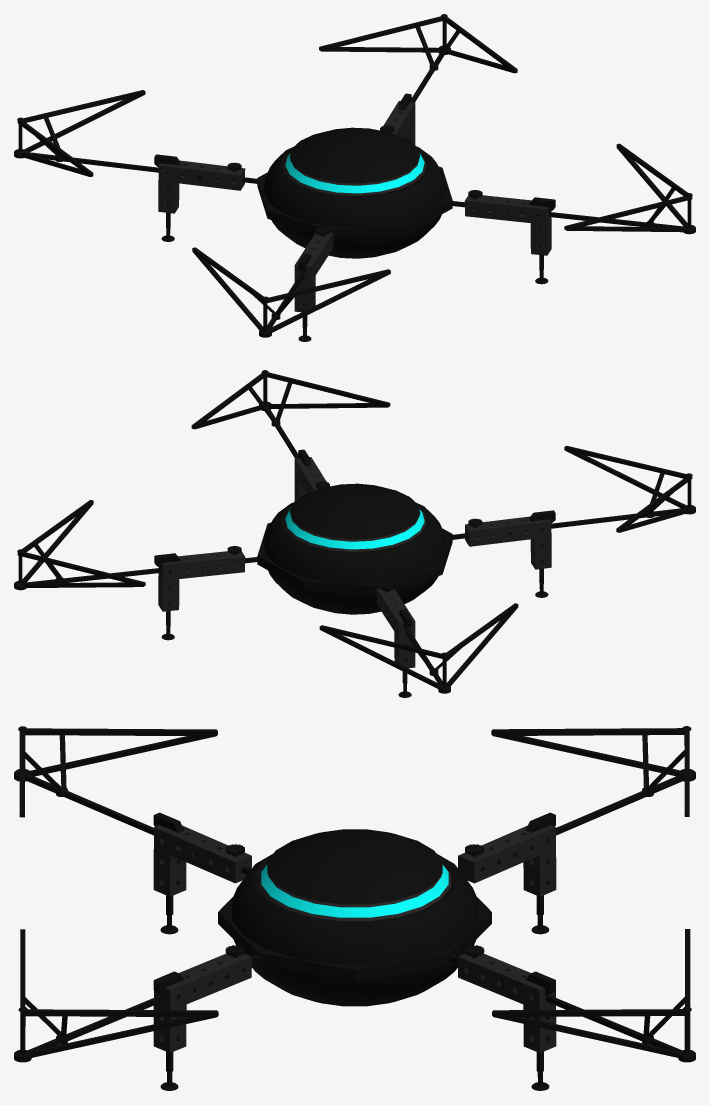
File: droneSansProps.obj
3 views of the same model, one above another, from view 1: azimuth 30°, elevation 25°; view 2: azimuth 150°, elevation 25°; view 3: azimuth 270°, elevation 25° (orthographic). The views are drawn at different scales.
Visible parts, largest first — view 1: polySurface247 polySurface361, polySurface247 polySurface367, polySurface247 polySurface345, polySurface247 polySurface336, polySurface247 polySurface383, polySurface247 polySurface404, polySurface247 polySurface327, polySurface247 polySurface443, polySurface247 polySurface368, polySurface247 polySurface372, polySurface247 polySurface365, polySurface247 polySurface362 (+5 smaller); view 2: polySurface247 polySurface361, polySurface247 polySurface367, polySurface247 polySurface404, polySurface247 polySurface327, polySurface247 polySurface345, polySurface247 polySurface443, polySurface247 polySurface336, polySurface247 polySurface383, polySurface247 polySurface432, polySurface247 polySurface372, polySurface247 polySurface365, polySurface247 polySurface334 (+5 smaller); view 3: polySurface247 polySurface361, polySurface247 polySurface367, polySurface247 polySurface390, polySurface247 polySurface339, polySurface247 polySurface335, polySurface247 polySurface355, polySurface247 polySurface459, polySurface247 polySurface338, polySurface247 polySurface343, polySurface247 polySurface346, polySurface247 polySurface368, polySurface247 polySurface432 (+21 smaller).
Part boxes in pixels (x1=…): polySurface247 polySurface361: x1=263, y1=127, x2=446, y2=258; polySurface247 polySurface367: x1=257, y1=166, x2=452, y2=238; polySurface247 polySurface345: x1=564, y1=195, x2=692, y2=230; polySurface247 polySurface336: x1=265, y1=269, x2=390, y2=303; polySurface247 polySurface383: x1=268, y1=274, x2=389, y2=332; polySurface247 polySurface404: x1=319, y1=16, x2=443, y2=48; polySurface247 polySurface327: x1=23, y1=90, x2=145, y2=122; polySurface247 polySurface443: x1=24, y1=91, x2=144, y2=152; polySurface247 polySurface368: x1=27, y1=152, x2=184, y2=175; polySurface247 polySurface372: x1=319, y1=47, x2=441, y2=52; polySurface247 polySurface365: x1=567, y1=226, x2=685, y2=232; polySurface247 polySurface362: x1=522, y1=212, x2=683, y2=227; polySurface247 polySurface361: x1=263, y1=483, x2=446, y2=614; polySurface247 polySurface367: x1=257, y1=522, x2=452, y2=594; polySurface247 polySurface404: x1=17, y1=552, x2=144, y2=586; polySurface247 polySurface327: x1=319, y1=625, x2=445, y2=659; polySurface247 polySurface345: x1=265, y1=372, x2=390, y2=407; polySurface247 polySurface443: x1=320, y1=627, x2=440, y2=688; polySurface247 polySurface336: x1=564, y1=445, x2=686, y2=478; polySurface247 polySurface383: x1=564, y1=447, x2=686, y2=508; polySurface247 polySurface432: x1=525, y1=508, x2=683, y2=531; polySurface247 polySurface372: x1=23, y1=582, x2=145, y2=587; polySurface247 polySurface365: x1=268, y1=403, x2=388, y2=408; polySurface247 polySurface334: x1=26, y1=568, x2=187, y2=583; polySurface247 polySurface361: x1=231, y1=829, x2=478, y2=1006; polySurface247 polySurface367: x1=218, y1=897, x2=491, y2=981; polySurface247 polySurface390: x1=20, y1=1009, x2=217, y2=1017; polySurface247 polySurface339: x1=492, y1=1009, x2=690, y2=1016; polySurface247 polySurface335: x1=25, y1=728, x2=217, y2=736; polySurface247 polySurface355: x1=492, y1=728, x2=684, y2=735; polySurface247 polySurface459: x1=493, y1=1012, x2=680, y2=1057; polySurface247 polySurface338: x1=28, y1=1011, x2=218, y2=1057; polySurface247 polySurface343: x1=491, y1=729, x2=681, y2=776; polySurface247 polySurface346: x1=29, y1=732, x2=216, y2=776; polySurface247 polySurface368: x1=530, y1=775, x2=682, y2=846; polySurface247 polySurface432: x1=27, y1=775, x2=179, y2=846.
Bounding box in the file's own units: 77.57 × 20.39 × 77.57.
